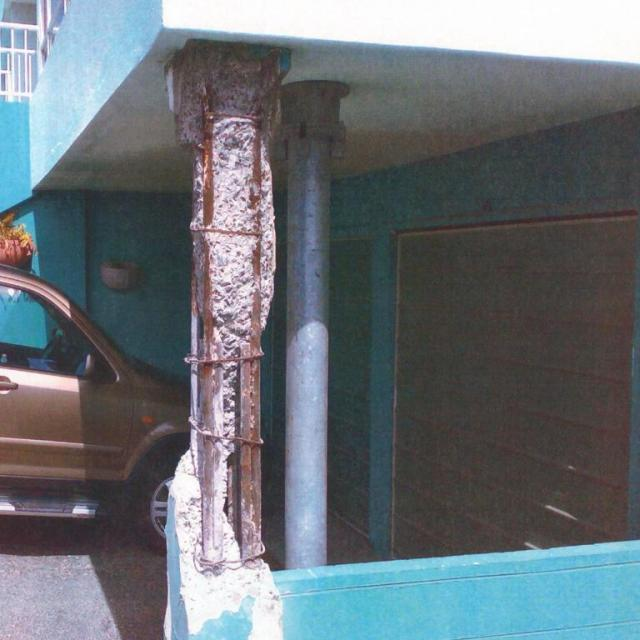spalling: (161, 38, 294, 639)
stain_mould: (240, 111, 262, 566), (201, 91, 216, 546)
